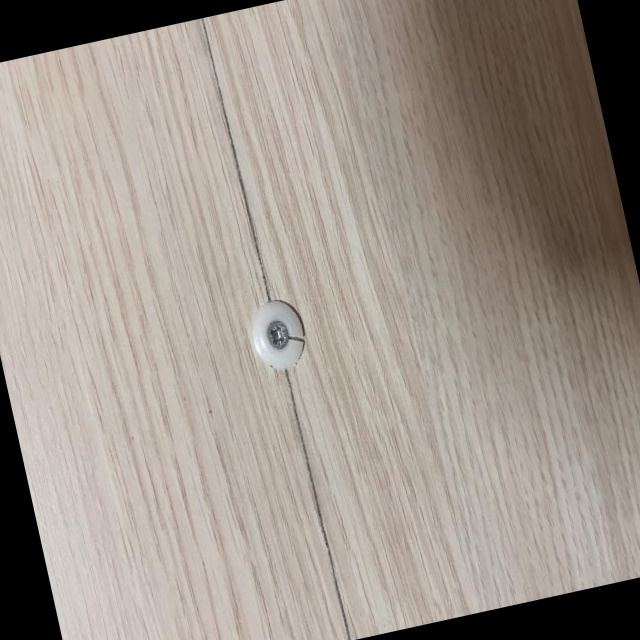pozidriv: (263, 318, 291, 352)
